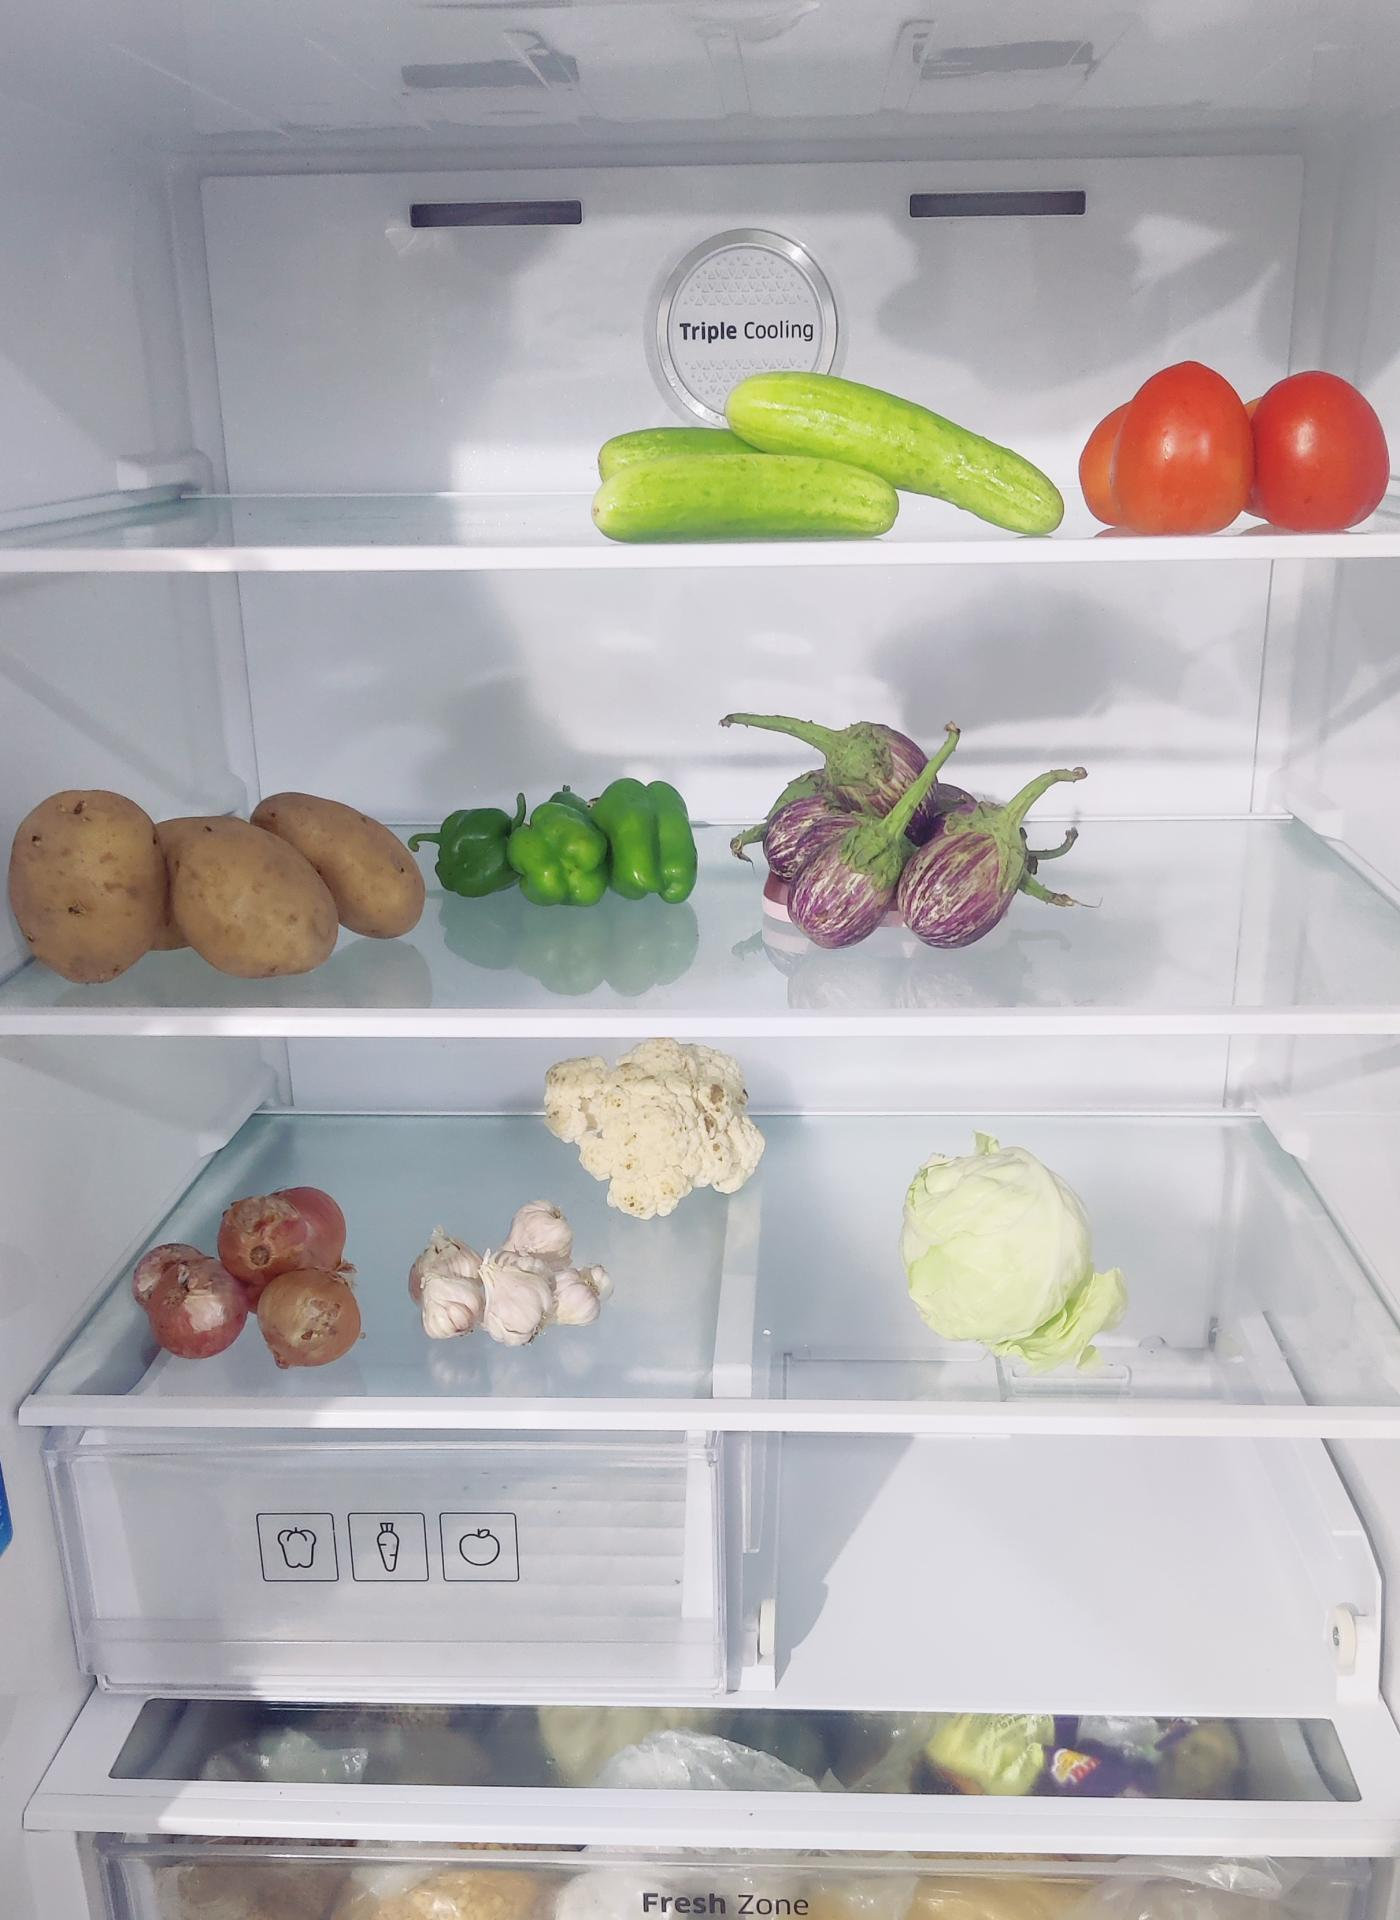brinjal: (742, 704, 1044, 948)
cabbage: (908, 1136, 1121, 1355)
capsicum: (437, 777, 702, 909)
cauliflower: (544, 1033, 768, 1213)
cucumber: (602, 379, 1073, 537)
garlic: (406, 1200, 604, 1345)
onion: (130, 1188, 373, 1368)
potato: (13, 784, 432, 972)
tomato: (1081, 356, 1393, 535)
